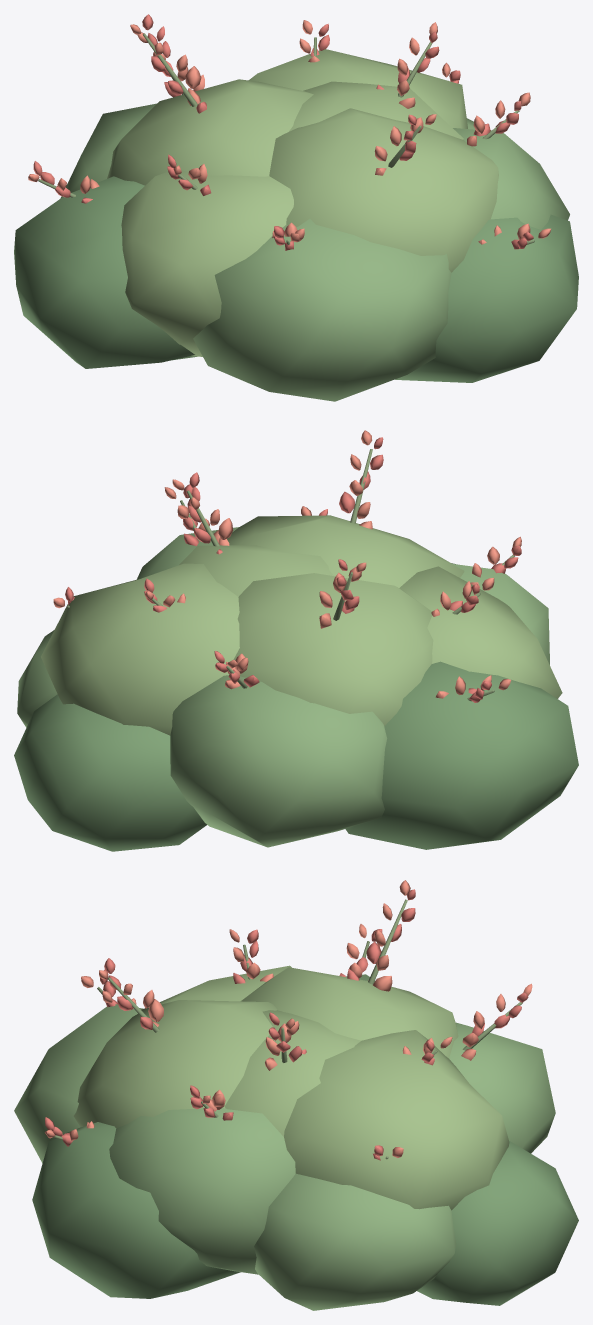
Rendered from ceibo_bush_7.glb.
The picture shows the model from 3 angles, top to bottom: view 1: azimuth 30°, elevation 25°; view 2: azimuth 150°, elevation 25°; view 3: azimuth 270°, elevation 25°; orthographic projection.
Parts seen in each view (by area): view 1: CeiboLeafL, CeiboLeafM, CeiboLeafD, CeiboPetal, CeiboFlower, CeiboWood; view 2: CeiboLeafL, CeiboLeafD, CeiboLeafM, CeiboPetal, CeiboFlower, CeiboWood; view 3: CeiboLeafL, CeiboLeafM, CeiboLeafD, CeiboPetal, CeiboFlower, CeiboWood.
Boxes of the visible parts, left/top/right/bottom form: CeiboLeafL: left=107, top=49, right=498, bottom=356; CeiboLeafM: left=60, top=103, right=569, bottom=401; CeiboLeafD: left=14, top=176, right=578, bottom=382; CeiboPetal: left=28, top=20, right=551, bottom=244; CeiboFlower: left=33, top=14, right=533, bottom=250; CeiboWood: left=38, top=33, right=534, bottom=244; CeiboLeafL: left=41, top=515, right=562, bottom=735; CeiboLeafD: left=14, top=661, right=578, bottom=851; CeiboLeafM: left=17, top=527, right=549, bottom=847; CeiboPetal: left=53, top=430, right=521, bottom=698; CeiboFlower: left=65, top=437, right=521, bottom=702; CeiboWood: left=66, top=449, right=514, bottom=701; CeiboLeafL: left=73, top=965, right=509, bottom=1210; CeiboLeafM: left=14, top=1004, right=555, bottom=1310; CeiboLeafD: left=32, top=974, right=578, bottom=1305; CeiboPetal: left=45, top=880, right=532, bottom=1157; CeiboFlower: left=45, top=889, right=528, bottom=1160; CeiboWood: left=53, top=899, right=522, bottom=1159.
Size of the model in its own units: 2.03 by 1.15 by 1.94.
